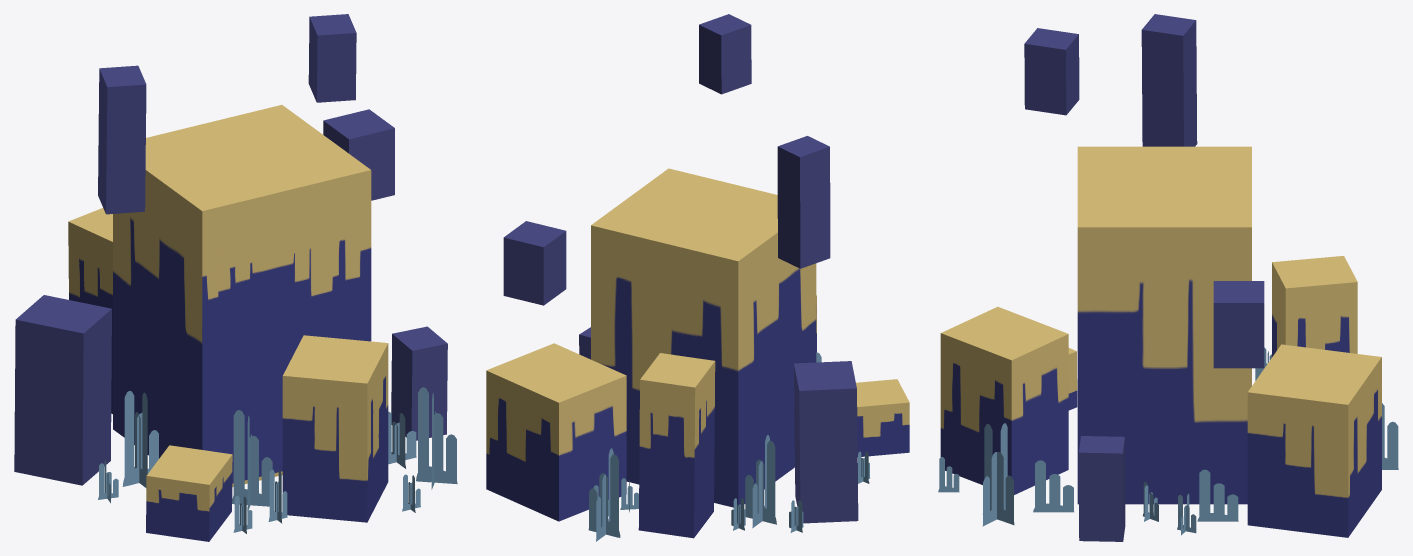
The model's file is rock_square.glb.
3 views of the same model, side by side, from view 1: azimuth 30°, elevation 25°; view 2: azimuth 150°, elevation 25°; view 3: azimuth 270°, elevation 25° (orthographic). The views are drawn at different scales.
Visible parts, largest first — view 1: Cube.004; view 2: Cube.004; view 3: Cube.004.
Part boxes in pixels (x1,y1,x2,y2): Cube.004: (14,14,457,541); Cube.004: (486,14,909,541); Cube.004: (938,14,1398,541).
Bounding box in the file's own units: 8.97 × 10.27 × 9.62.
Materials: 3 (1 with a texture image).
